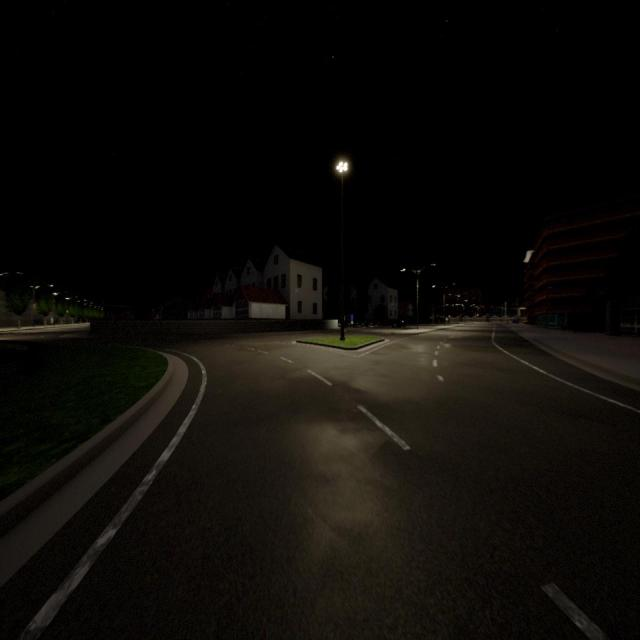Vehicle: (512, 319, 518, 323)
